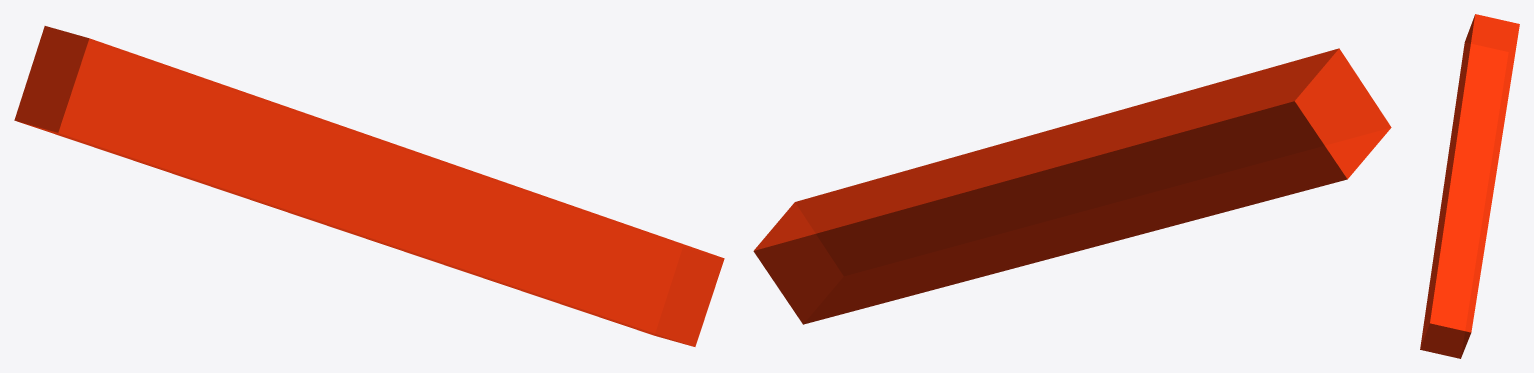
Rendered from Event_421278790_EBrechit_0.fbx.
3 views of the same model, side by side, from view 1: azimuth 30°, elevation 25°; view 2: azimuth 150°, elevation 25°; view 3: azimuth 270°, elevation 25° (orthographic). The views are drawn at different scales.
Parts seen in each view (by area): view 1: Model; view 2: Model; view 3: Model.
Boxes of the visible parts, x1=… form: Model: x1=14, y1=26, x2=724, y2=346; Model: x1=753, y1=48, x2=1391, y2=324; Model: x1=1420, y1=14, x2=1519, y2=358.
Bounding box in the file's own units: 0.4797 × 0.3058 × 0.1314.
